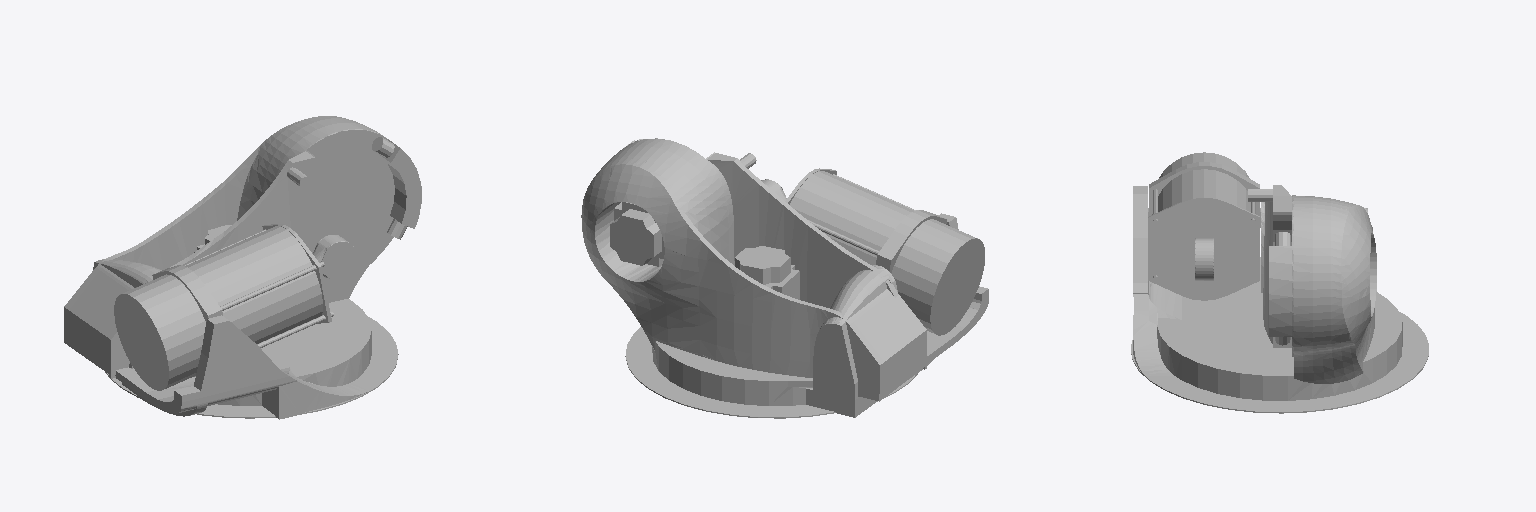
File: scene_kuka_arm_link_1_kuka_arm_link_1_visuals_mesh.obj
The picture shows the model from 3 angles: view 1: azimuth 30°, elevation 25°; view 2: azimuth 150°, elevation 25°; view 3: azimuth 270°, elevation 25°; orthographic projection.
Bounding box in the file's own units: 1.14 × 0.664 × 0.9193.